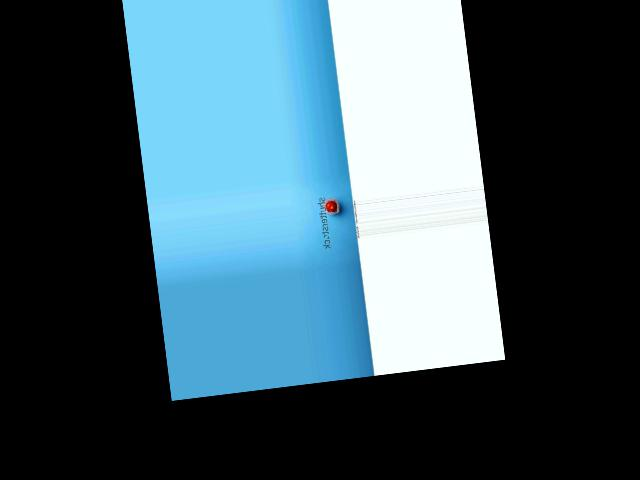tomato: (325, 201, 337, 213)
